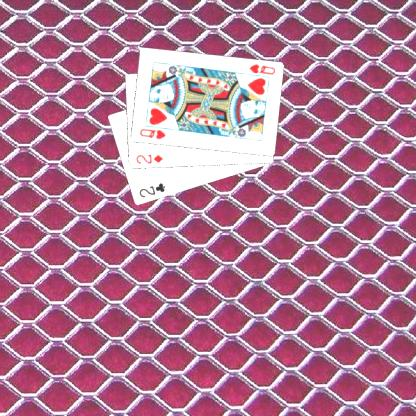2C: (136, 180, 166, 199)
2D: (133, 152, 164, 165)
QH: (242, 62, 276, 80), (136, 126, 167, 141)
